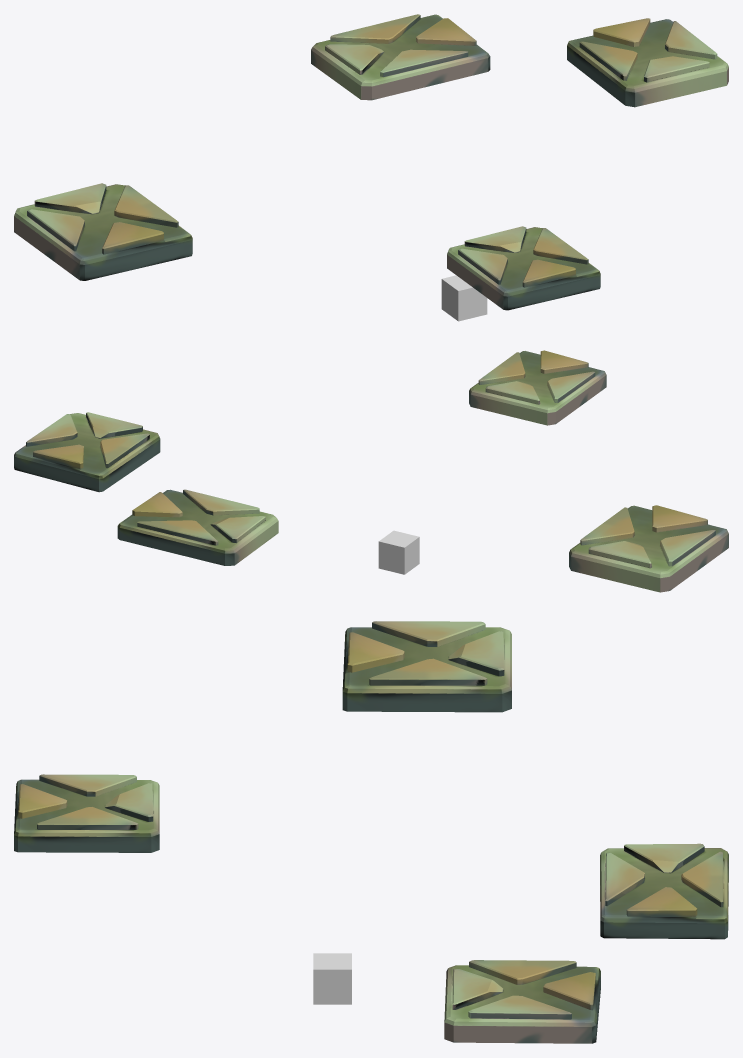
Rendered from award-floor007.fbx.
3 views of the same model, one above another, from view 1: azimuth 30°, elevation 25°; view 2: azimuth 150°, elevation 25°; view 3: azimuth 270°, elevation 25° (orthographic). The views are drawn at different scales.
Parts seen in each view (by area): view 1: Plane.039, Plane.042, Plane.044, Plane.037, award-floor007; view 2: Plane.039, Plane.042, Plane.044, Plane.037, award-floor007; view 3: Plane.039, Plane.044, Plane.042, Plane.037, award-floor007.
Boxes of the visible parts, bbox=[...] form: Plane.039: bbox=[14, 183, 192, 280]; Plane.042: bbox=[311, 14, 490, 100]; Plane.044: bbox=[567, 18, 728, 107]; Plane.037: bbox=[447, 226, 600, 310]; award-floor007: bbox=[441, 275, 487, 321]; Plane.039: bbox=[569, 505, 728, 592]; Plane.042: bbox=[117, 489, 278, 565]; Plane.044: bbox=[14, 412, 160, 492]; Plane.037: bbox=[469, 350, 606, 425]; award-floor007: bbox=[378, 530, 419, 574]; Plane.039: bbox=[342, 621, 511, 712]; Plane.044: bbox=[444, 960, 600, 1043]; Plane.042: bbox=[600, 843, 728, 939]; Plane.037: bbox=[14, 774, 159, 852]; award-floor007: bbox=[313, 953, 351, 1004].
Size of the model in its own units: 1435 by 293 by 1109.
